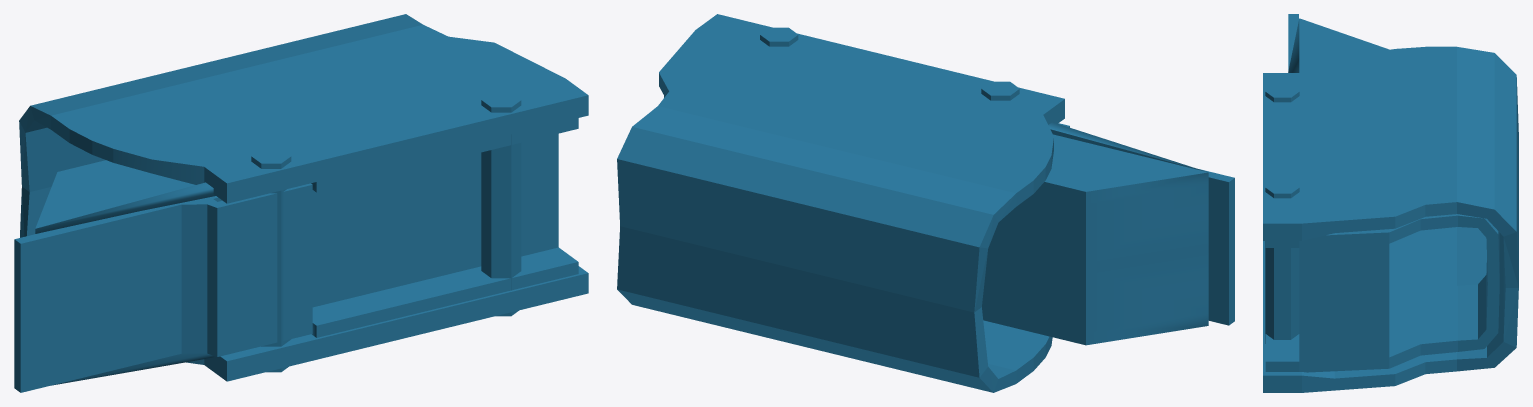
Rendered from ReplikaScope.fbx.
3 views of the same model, side by side, from view 1: azimuth 30°, elevation 25°; view 2: azimuth 150°, elevation 25°; view 3: azimuth 270°, elevation 25° (orthographic). The views are drawn at different scales.
Visible parts, largest first — view 1: SignalisSight; view 2: SignalisSight; view 3: SignalisSight.
Part boxes in pixels (box(x1,y1,x2,y2)): SignalisSight: box(14, 14, 588, 392); SignalisSight: box(617, 14, 1234, 392); SignalisSight: box(1263, 14, 1518, 392).
Bounding box in the file's own units: 0.0223 × 0.0617 × 0.0289.
